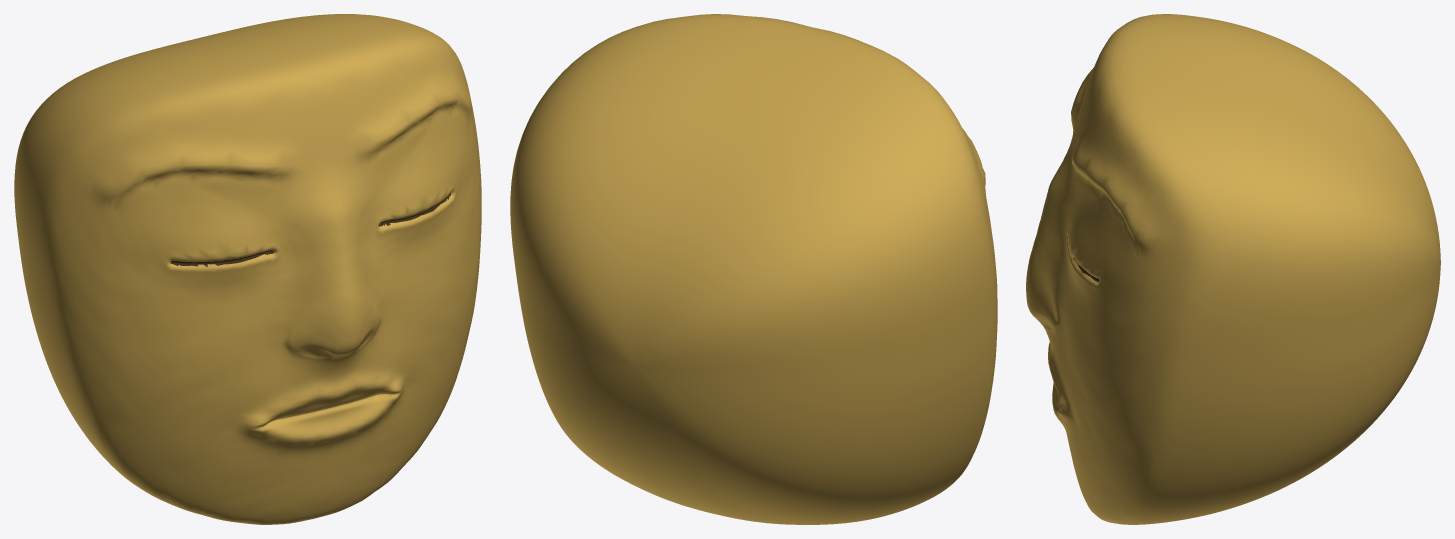
Rendered from closed-face-scaffold.glb.
3 views of the same model, side by side, from view 1: azimuth 30°, elevation 25°; view 2: azimuth 150°, elevation 25°; view 3: azimuth 270°, elevation 25° (orthographic). The views are drawn at different scales.
Parts seen in each view (by area): view 1: Original-reference-face-scaffold; view 2: Original-reference-face-scaffold; view 3: Original-reference-face-scaffold.
Part boxes in pixels (bbox=[...]): Original-reference-face-scaffold: bbox=[14, 14, 481, 524]; Original-reference-face-scaffold: bbox=[510, 14, 997, 524]; Original-reference-face-scaffold: bbox=[1026, 14, 1440, 524].
Size of the model in its own units: 0.6548 by 0.6564 by 0.567.
